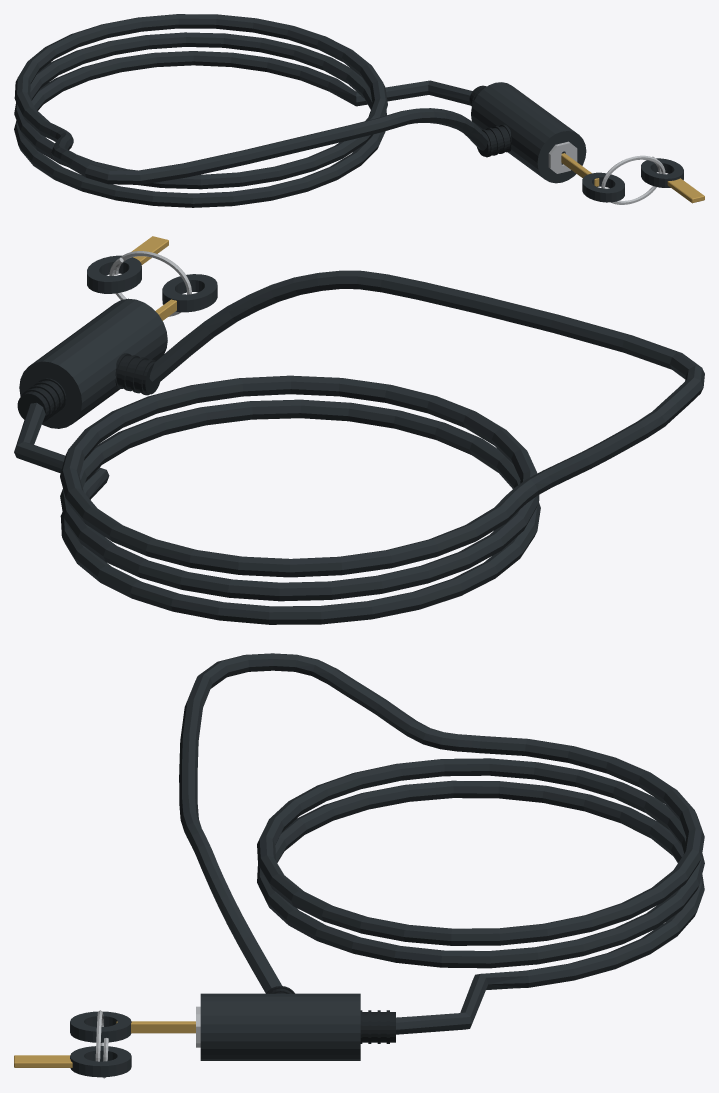
Rendered from full.glb.
The picture shows the model from 3 angles, top to bottom: view 1: azimuth 30°, elevation 25°; view 2: azimuth 150°, elevation 25°; view 3: azimuth 270°, elevation 25°; orthographic projection. The views are drawn at different scales.
Visible parts, largest first — view 1: One continuous coiled cable, Cylindrical lock body, Oval key head 0, Oval key head 1, Small split key ring, Key cylinder slot rim, Loose plain key blade, Side flexible boot, Inserted plain key blade; view 2: One continuous coiled cable, Cylindrical lock body, Oval key head 1, Oval key head 0, Side flexible boot, End flexible boot, Small split key ring; view 3: One continuous coiled cable, Cylindrical lock body, Oval key head 1, Oval key head 0, Inserted plain key blade, End flexible boot, Loose plain key blade.
Part boxes in pixels (x1,y1,x2,y2): One continuous coiled cable: [14, 14, 488, 207]; Cylindrical lock body: [471, 82, 586, 183]; Oval key head 0: [582, 172, 624, 202]; Oval key head 1: [641, 158, 683, 187]; Small split key ring: [601, 155, 665, 204]; Key cylinder slot rim: [548, 141, 577, 173]; Loose plain key blade: [667, 178, 704, 203]; Side flexible boot: [477, 126, 510, 156]; Inserted plain key blade: [561, 153, 599, 186]; One continuous coiled cable: [14, 270, 704, 624]; Cylindrical lock body: [19, 298, 167, 428]; Oval key head 1: [87, 255, 141, 293]; Oval key head 0: [162, 274, 217, 312]; Side flexible boot: [116, 355, 159, 394]; End flexible boot: [17, 380, 63, 420]; Small split key ring: [109, 251, 191, 316]; One continuous coiled cable: [179, 653, 704, 1034]; Cylindrical lock body: [200, 993, 360, 1060]; Oval key head 1: [70, 1046, 131, 1077]; Oval key head 0: [70, 1011, 131, 1042]; Inserted plain key blade: [116, 1021, 195, 1033]; End flexible boot: [362, 1012, 395, 1042]; Loose plain key blade: [14, 1055, 72, 1067].
Bounding box in the file's own units: 0.4846 × 0.0991 × 0.4495.
